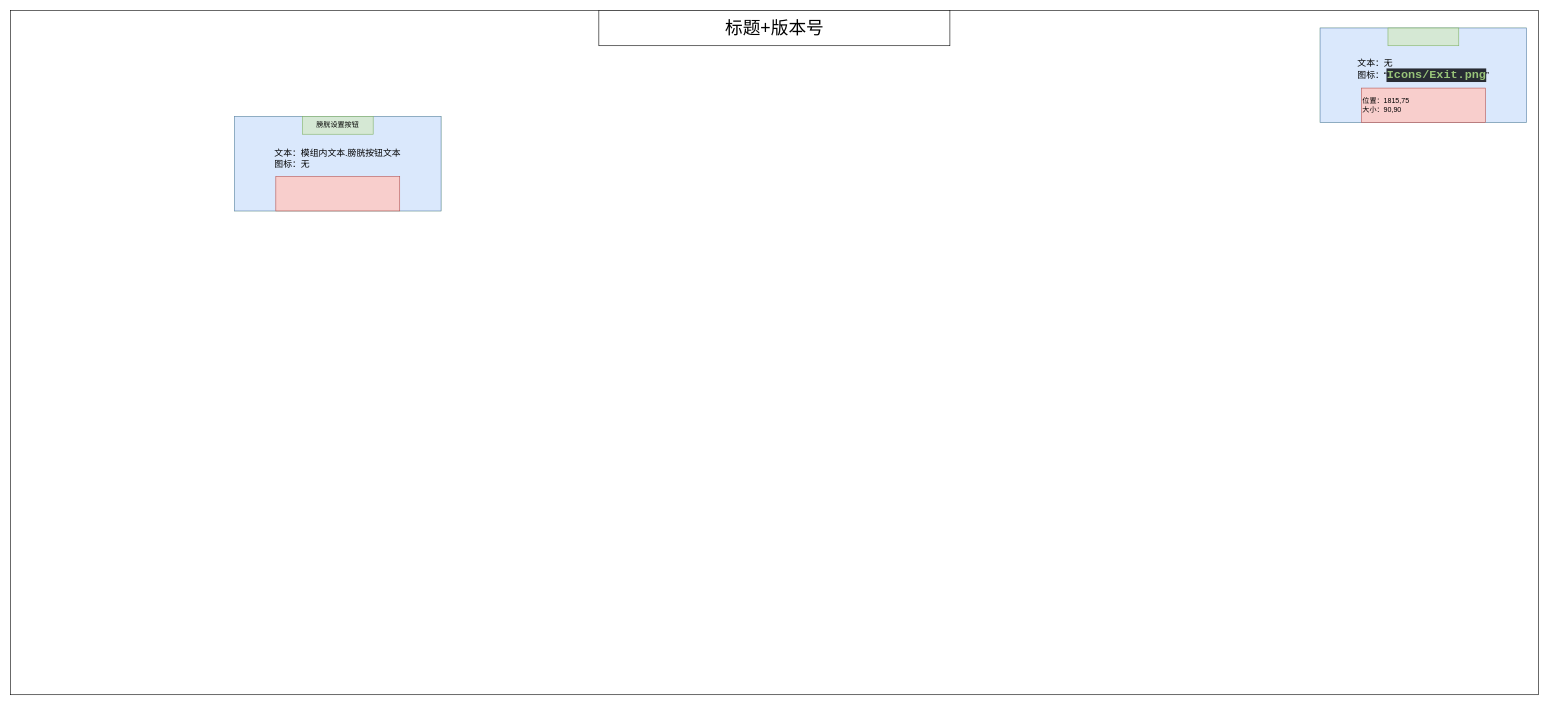
Image size: 1549x705. Some labels were removed from this diagram. Here are the shapes that lost their labels. From the top down, the centre of each, then its label:
At point (1423, 36): "设置按钮".
At point (337, 193): "位置： 大小：".
